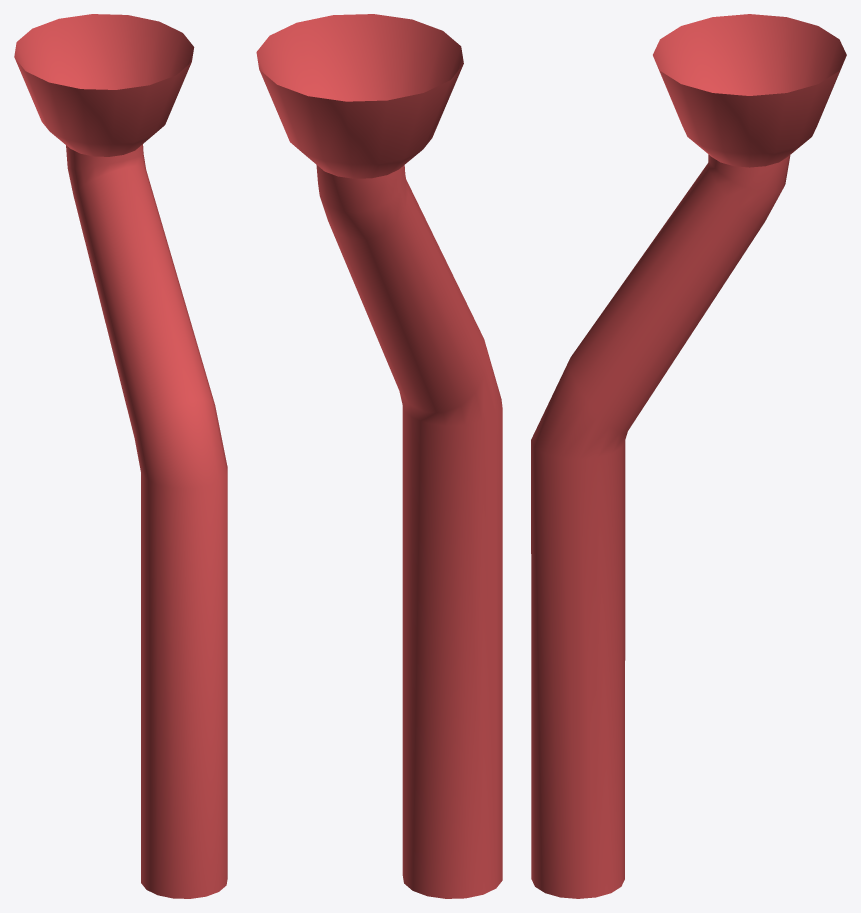
The model's file is Gutter_part_3.fbx.
The picture shows the model from 3 angles, left to right: view 1: azimuth 30°, elevation 25°; view 2: azimuth 150°, elevation 25°; view 3: azimuth 270°, elevation 25°; orthographic projection. The views are drawn at different scales.
Parts seen in each view (by area): view 1: Gutter_part_3; view 2: Gutter_part_3; view 3: Gutter_part_3.
Part boxes in pixels (x1,y1,x2,y2): Gutter_part_3: [14, 14, 227, 898]; Gutter_part_3: [256, 14, 502, 898]; Gutter_part_3: [531, 14, 846, 898].
Bounding box in the file's own units: 24.91 × 117 × 40.5.
